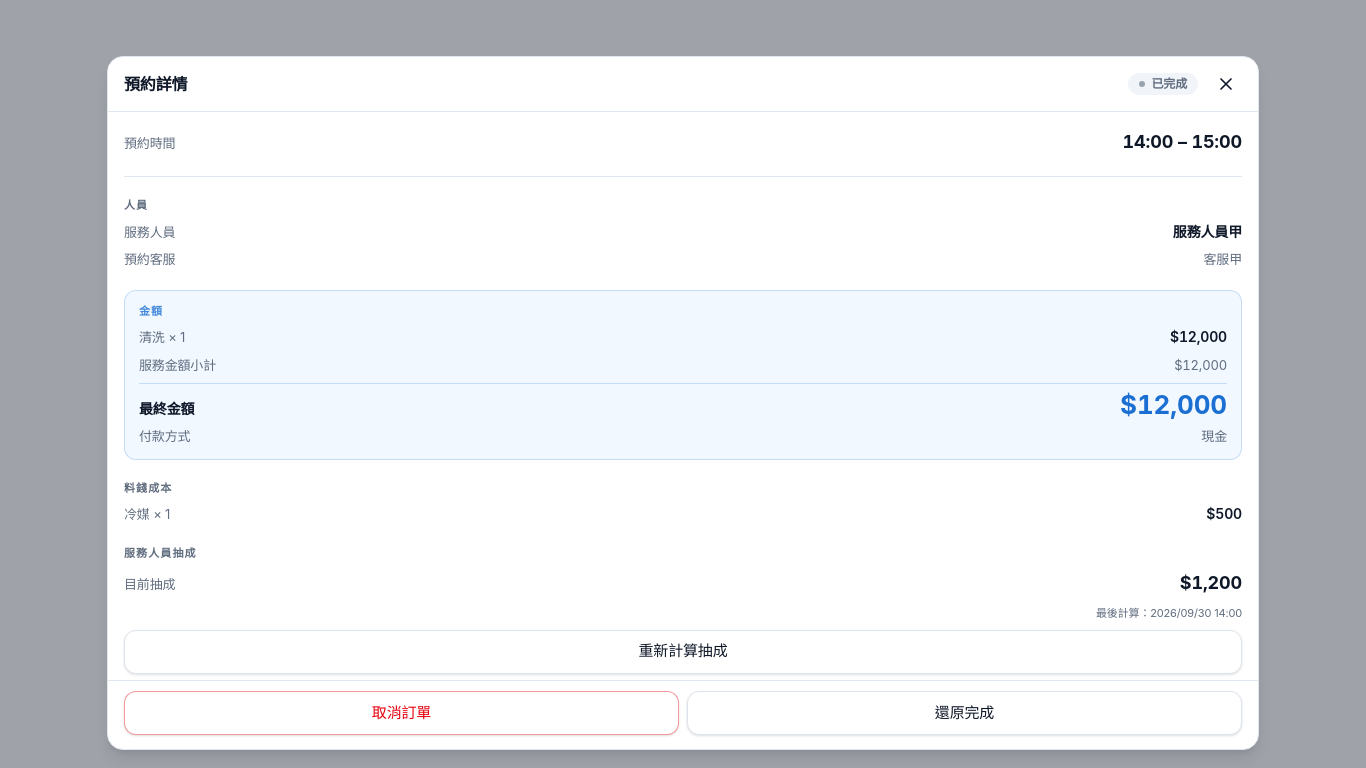
K-6~K-8 確認窗與送出 › ⑤ 確認窗文字逐字(含目前金額)→ 確定 ⇒ 呼叫一次;toast 新舊金額;區塊重抓
Click the button with test id "booking-commission-recalculate".
click(683, 652)  # box x1=124 y1=630 x2=1242 y2=674
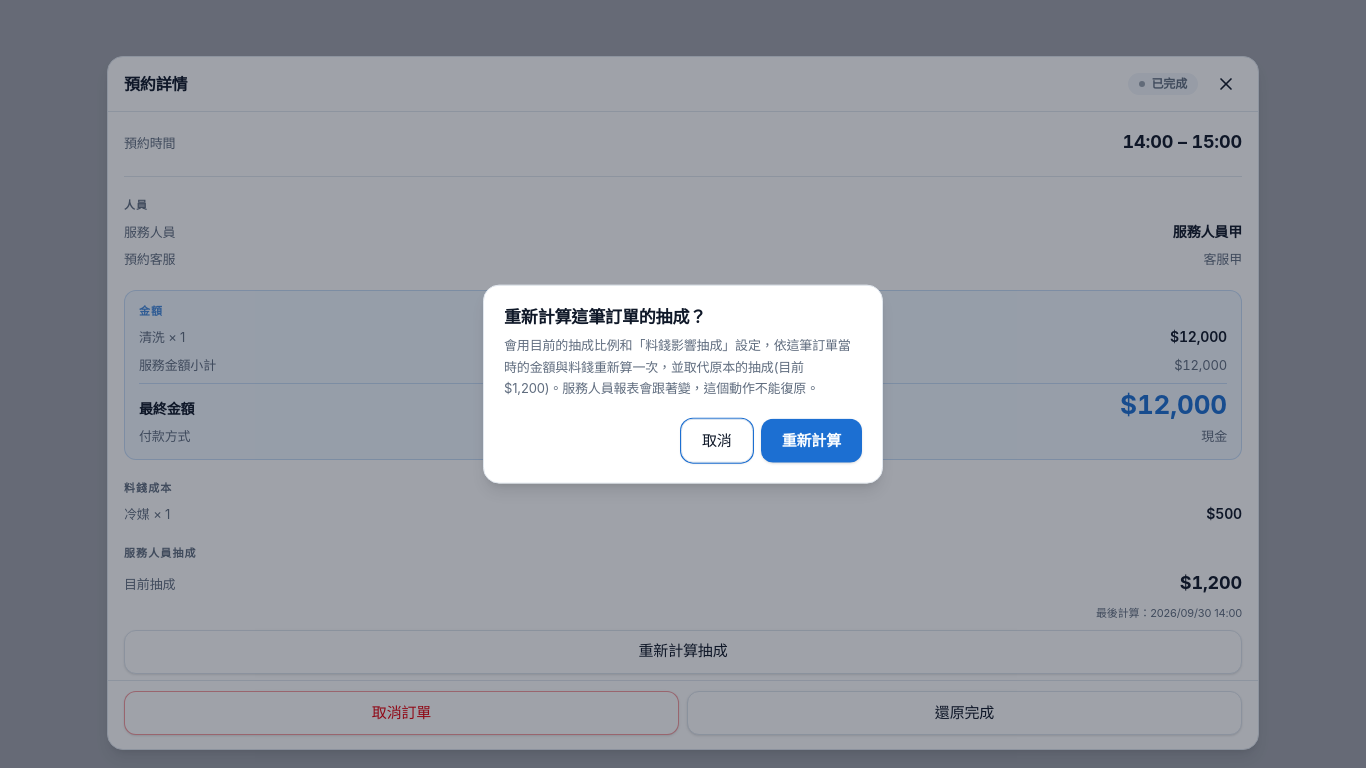
Check: the heading "重新計算這筆訂單的抽成？" is shown, box x1=504 y1=307 x2=706 y2=327
Check: the text "會用目前的抽成比例和「料錢影響抽成」設定，依這筆訂單當時的金額與料錢重新算一次，並取代原本的抽成(目前 $1,200)。服務人員報表會跟著變，這個動作不能復原。" is shown, box x1=504 y1=335 x2=862 y2=398
Check: the buttons read "取消", "重新計算", in this order
Click the button "重新計算".
click(811, 440)  # box x1=761 y1=418 x2=862 y2=462
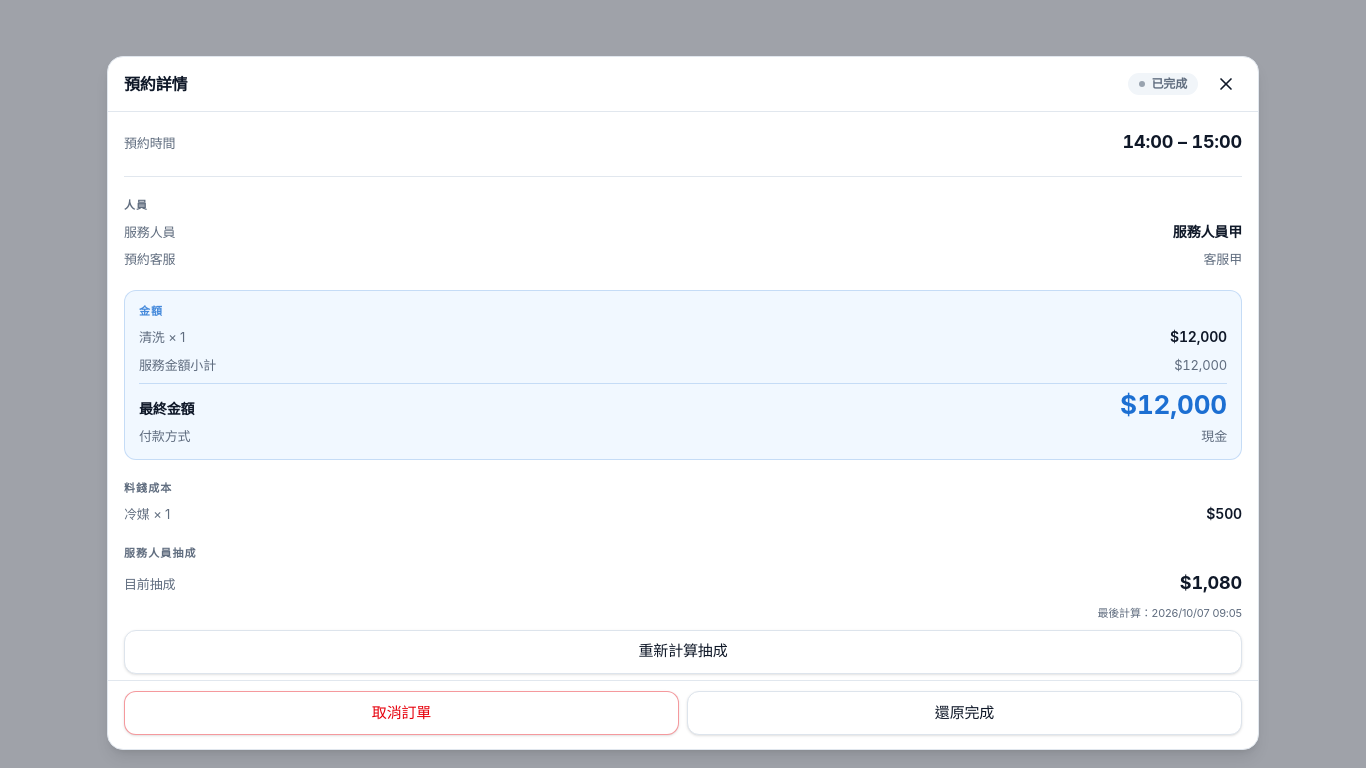
Check: the dialog with test id "booking-commission-confirm" is gone
Check: the text with test id "booking-commission-amount" reads "$1,080", box x1=1180 y1=572 x2=1242 y2=593
Check: the text with test id "booking-commission-computed-at" reads "最後計算：2026/10/07 09:05", box x1=1097 y1=606 x2=1242 y2=620
